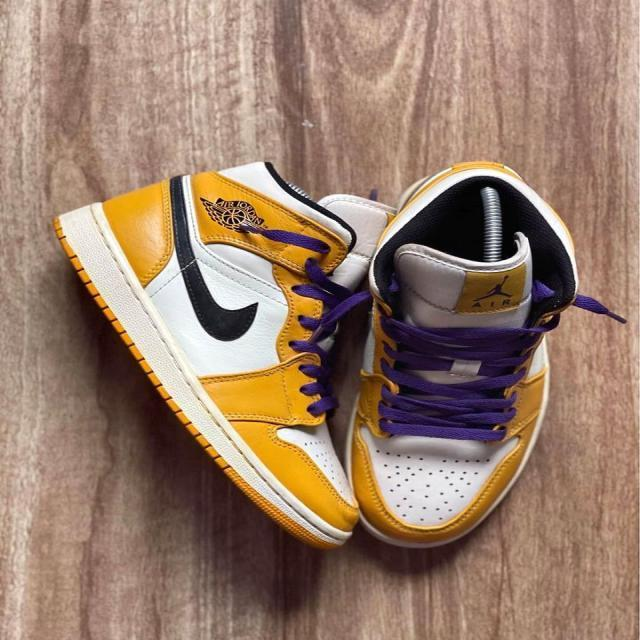nike original jordan 1: (51, 160, 362, 545), (344, 160, 598, 552)
